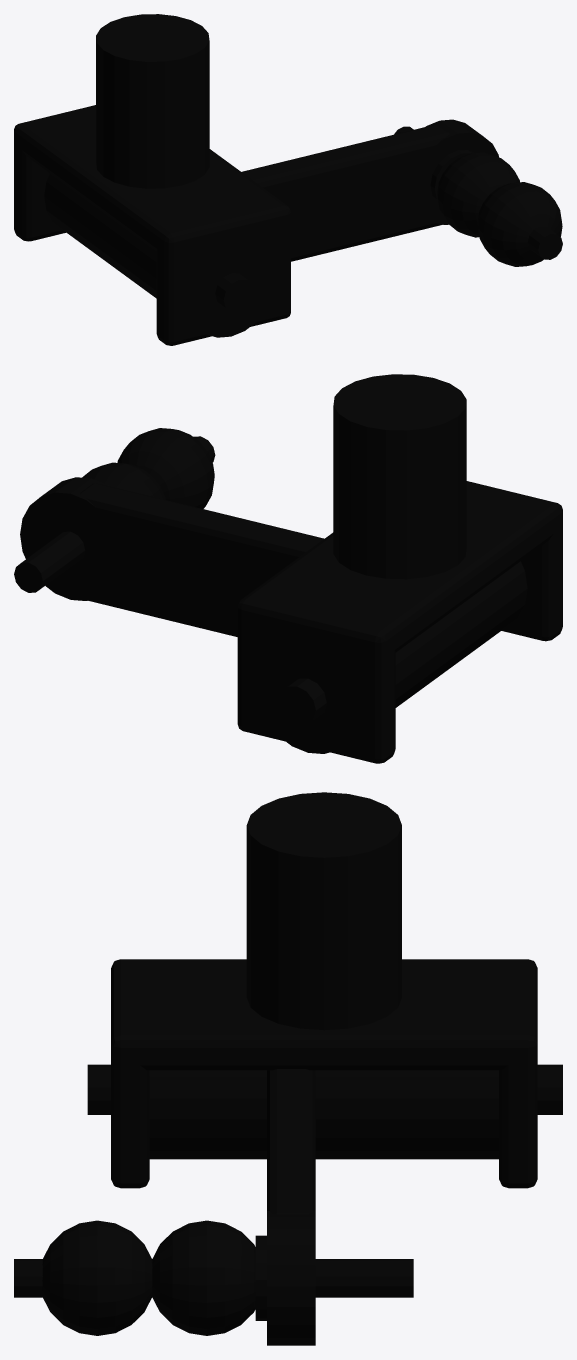
The model's file is knuckle_fl.obj.
3 renders of one model, top to bottom at view 1: azimuth 30°, elevation 25°; view 2: azimuth 150°, elevation 25°; view 3: azimuth 270°, elevation 25°, orthographic. The views are drawn at different scales.
Bounding box in the file's own units: 0.0316 × 0.0187 × 0.0283.
Materials: 1 (1 with a texture image).
